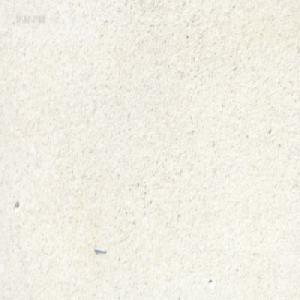Nail: (92, 244, 107, 253)
